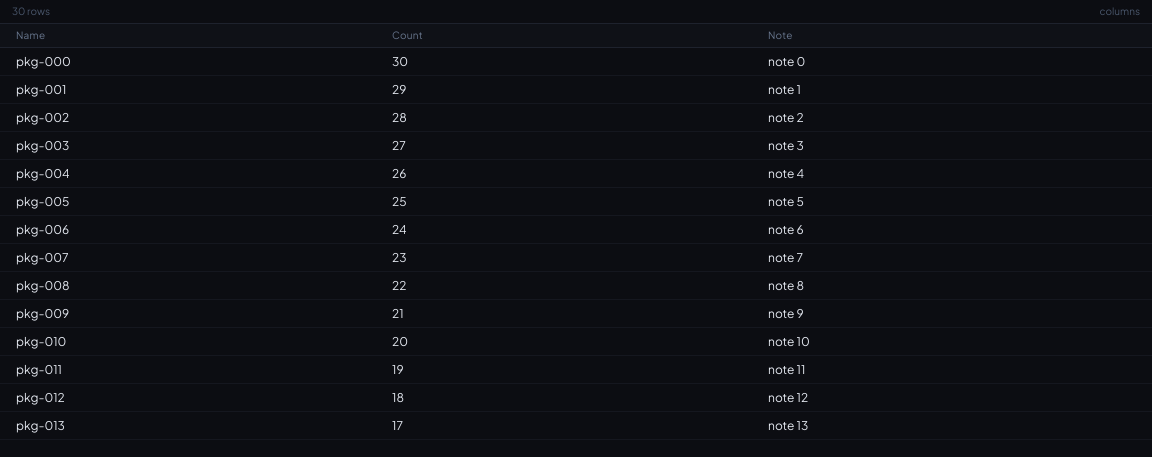
DataTable › sorts ascending, then descending, then clears
The width and height of the screenshot is (1152, 457).
Click the button "Count" at (407, 35), box [388, 28, 764, 43]
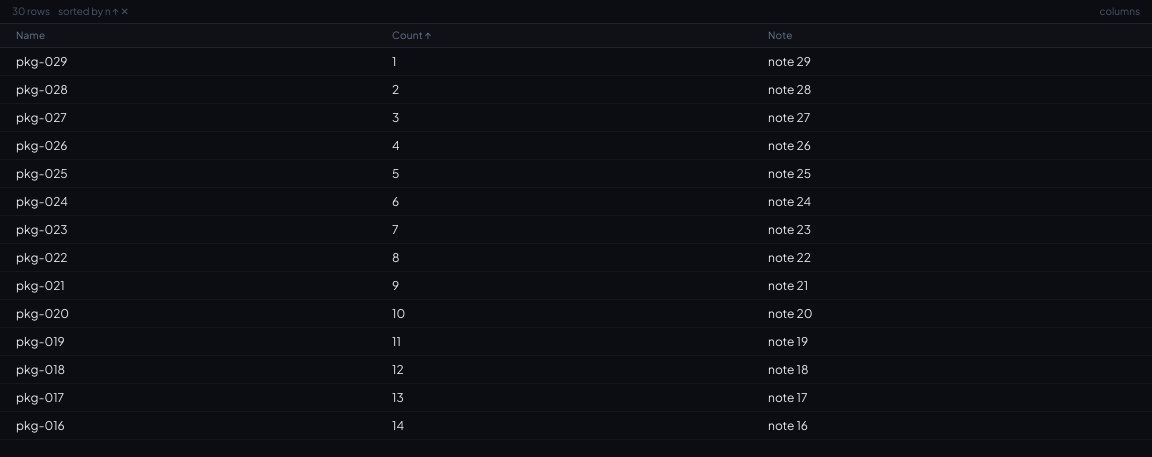
Check: the button "sorted by n ↑ ✕" is shown, box [58, 4, 129, 19]
Click the button "Count ↑" at (407, 35), box [388, 28, 764, 43]
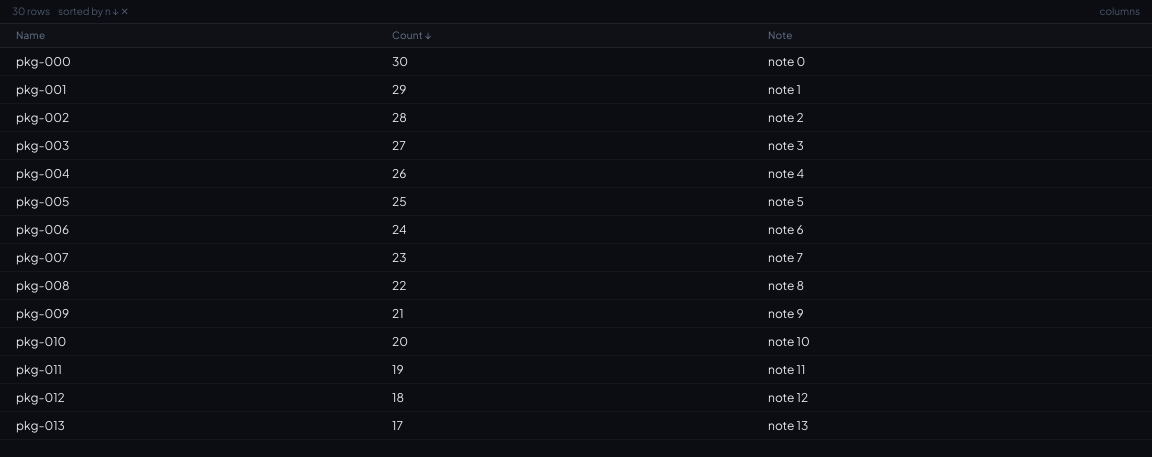
Check: the button "sorted by n ↓ ✕" is shown, box [58, 4, 129, 19]
Click the button "Count ↓" at (407, 35), box [388, 28, 764, 43]
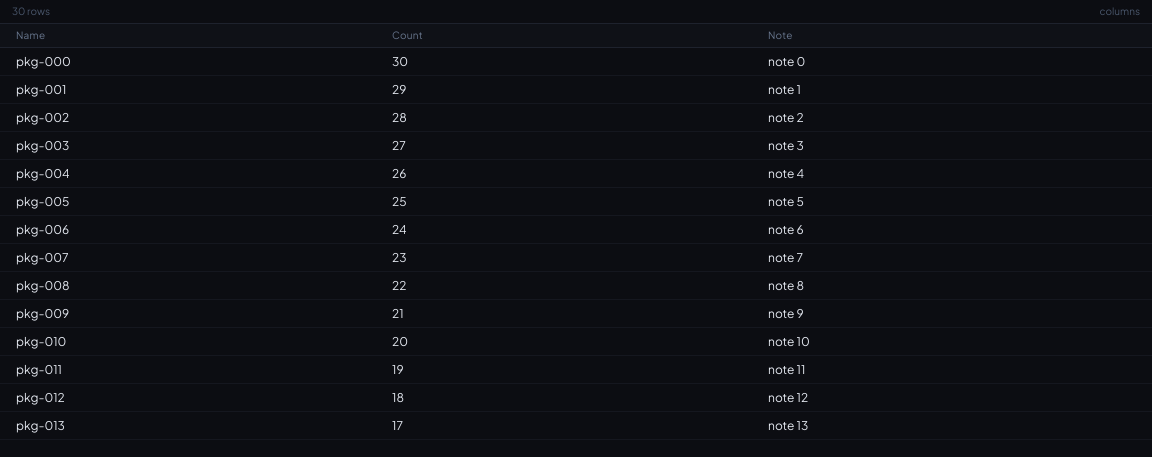
Check: the button "sorted by" is gone
